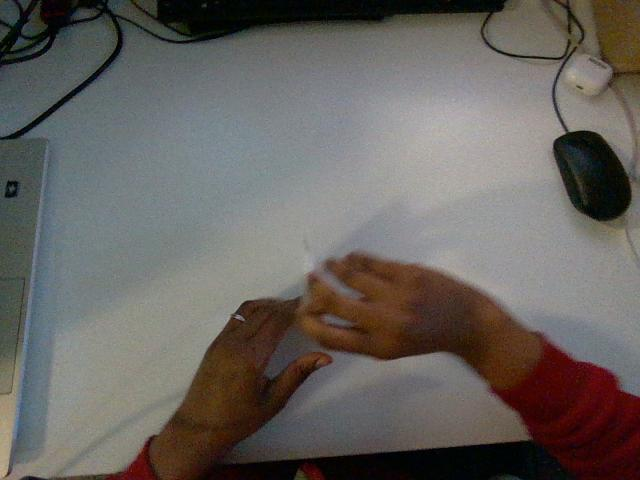gauze: (304, 238, 315, 272)
